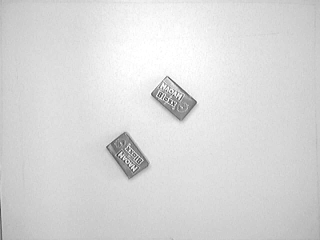Maoam: (148, 74, 200, 125), (104, 129, 153, 182)
